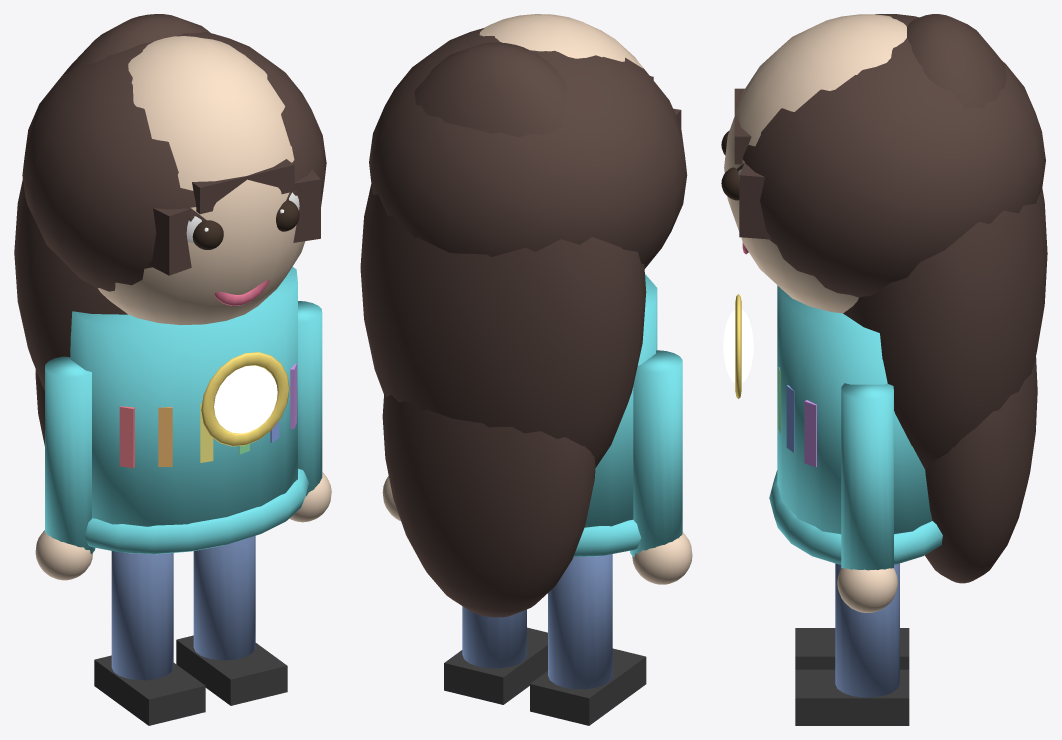
The model's file is mom.glb.
The picture shows the model from 3 angles, left to right: view 1: azimuth 30°, elevation 25°; view 2: azimuth 150°, elevation 25°; view 3: azimuth 270°, elevation 25°; orthographic projection. The views are drawn at different scales.
Visible parts, largest first — view 1: Mom_joined; view 2: Mom_joined; view 3: Mom_joined.
Part boxes in pixels (x1,y1,x2,y2): Mom_joined: (14,14,331,725); Mom_joined: (360,14,692,725); Mom_joined: (721,14,1047,725).
Size of the model in its own units: 0.9601 by 2.04 by 0.902.
